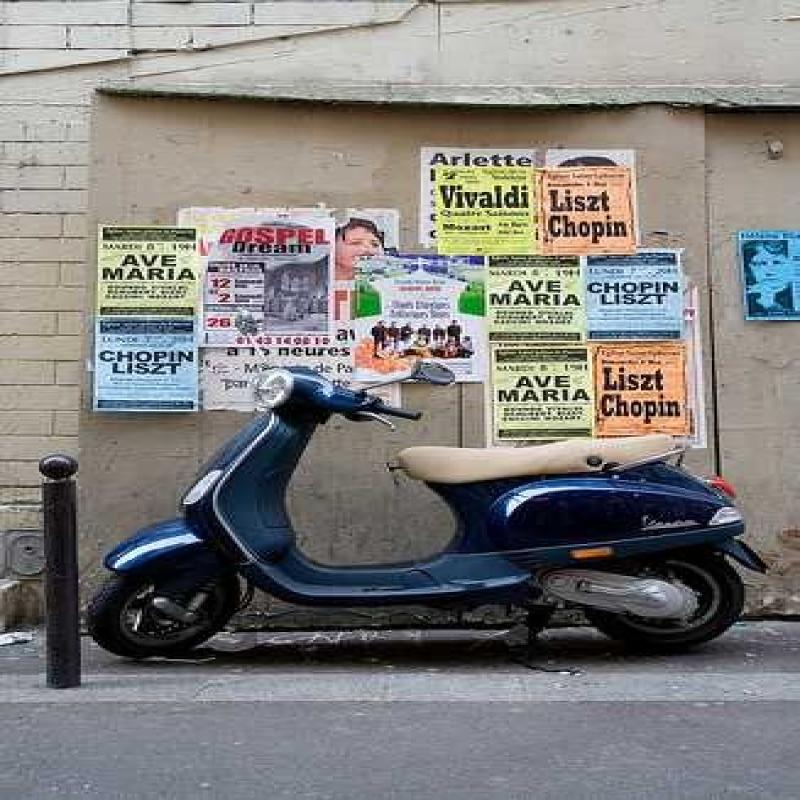bike: (93, 320, 767, 665)
